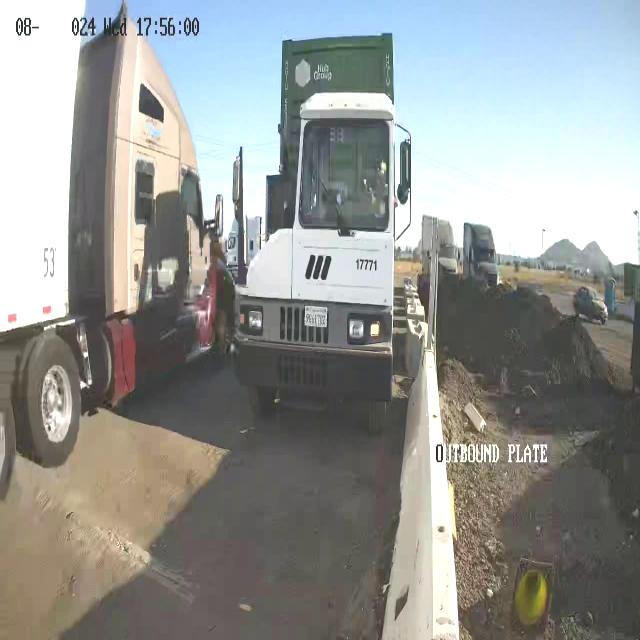CONTAINER: (274, 28, 401, 304), (1, 6, 83, 335)
